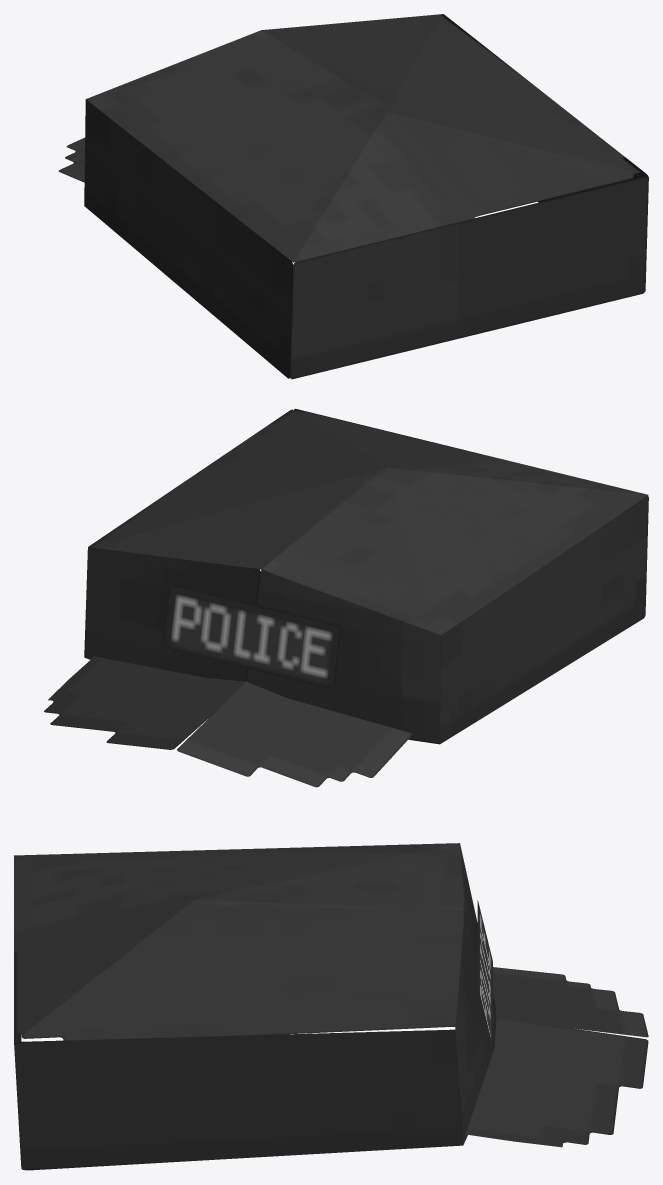
The model's file is a_police_h.obj.
3 renders of one model, top to bottom at view 1: azimuth 30°, elevation 25°; view 2: azimuth 150°, elevation 25°; view 3: azimuth 270°, elevation 25°, orthographic. The views are drawn at different scales.
Visible parts, largest first — view 1: mesh; view 2: mesh; view 3: mesh.
Part boxes in pixels (bbox=[...]): mesh: bbox=[58, 14, 648, 379]; mesh: bbox=[44, 408, 648, 787]; mesh: bbox=[14, 843, 648, 1170].
Bounding box in the file's own units: 0.5813 × 0.2584 × 0.8362.
